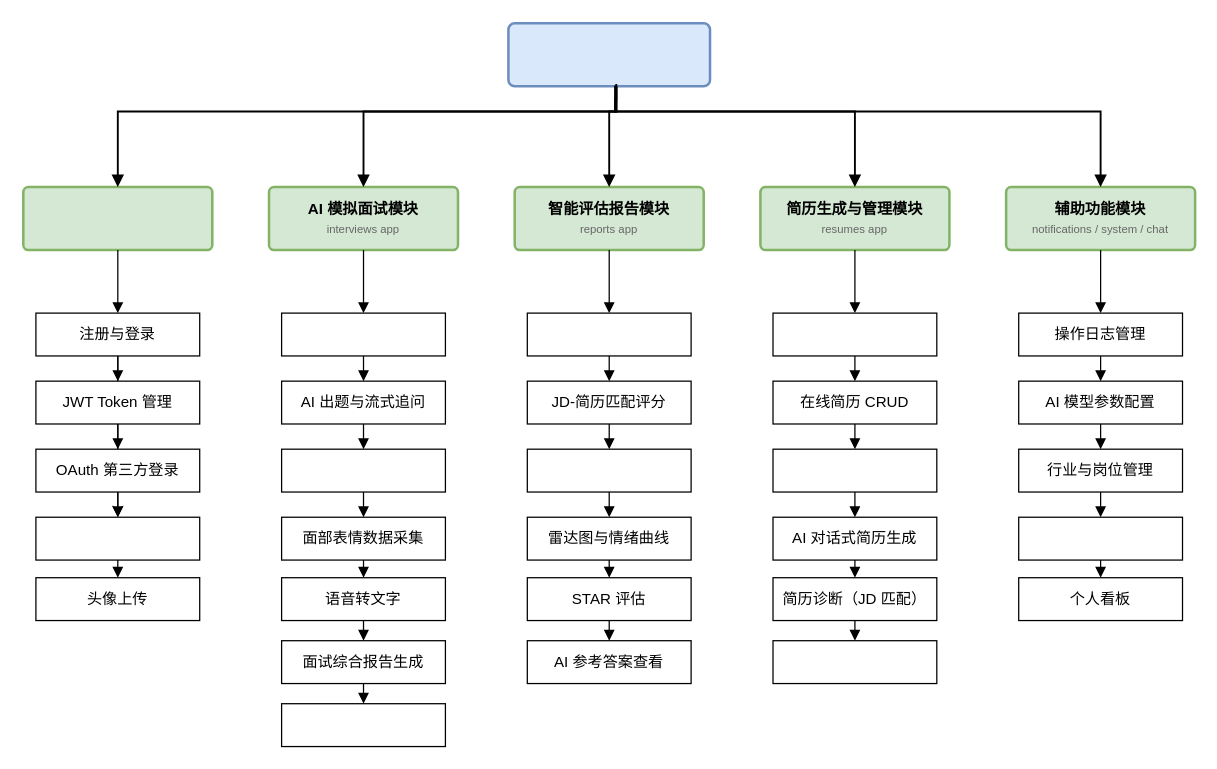
This 1217x769 diagram has some shape labels left out. The centre of each missing label's shape, as x and y in pixels:
A4 PDF 导出: (x=854, y=661)
AI 对话（WebSocket）: (x=1100, y=538)
AInterview 平台: (x=609, y=54)
个人信息 CRUD: (x=117, y=538)
文件上传与 OCR 解析: (x=854, y=334)
用户认证模块 users app: (x=117, y=218)
答题提交与即时反馈: (x=362, y=470)
简历分析报告生成: (x=608, y=334)
简历模板管理: (x=854, y=470)
综合评分: (x=608, y=470)
面试会话创建与管理: (x=362, y=334)
面试状态定时清理: (x=362, y=724)
